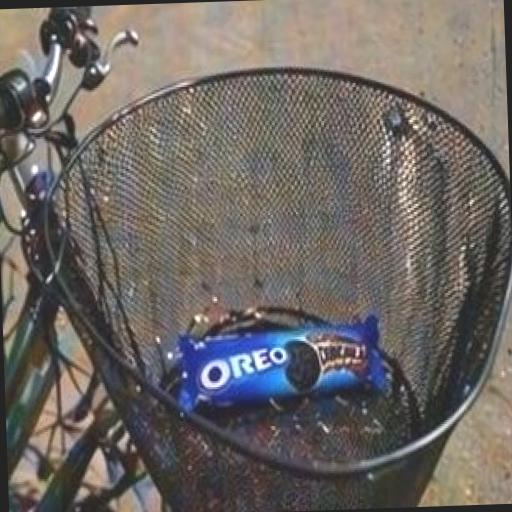oreo: (108, 244, 476, 490)
